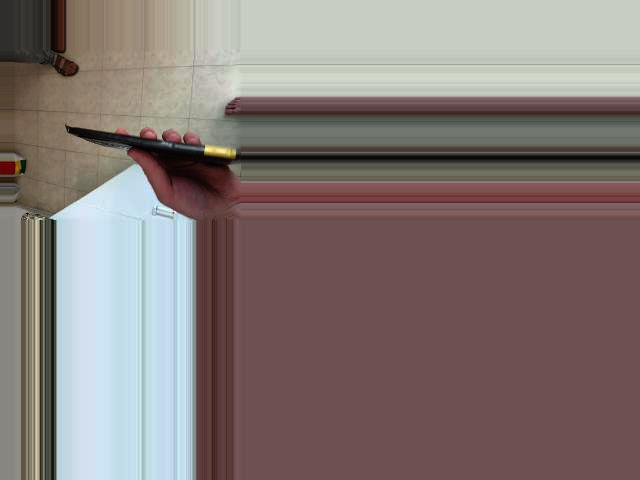chocolate: (67, 122, 241, 173)
